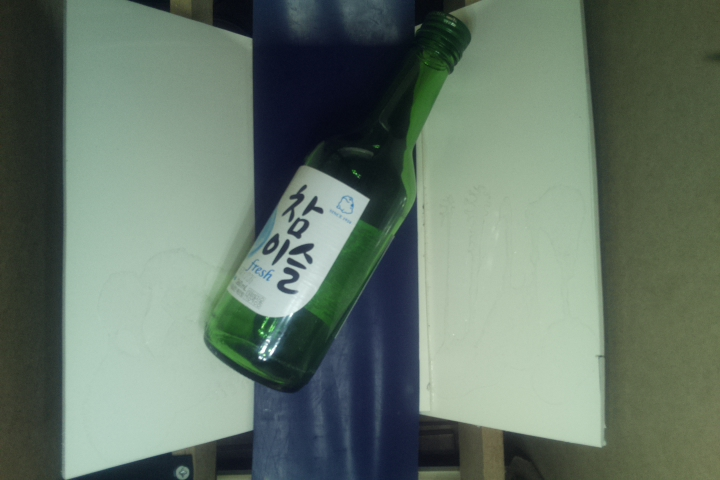soju: (207, 9, 470, 396)
